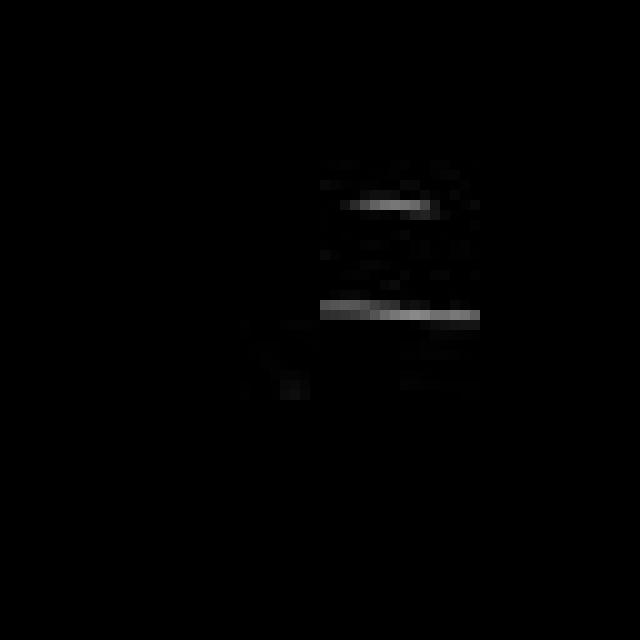2 -two-: (300, 178, 489, 342)
